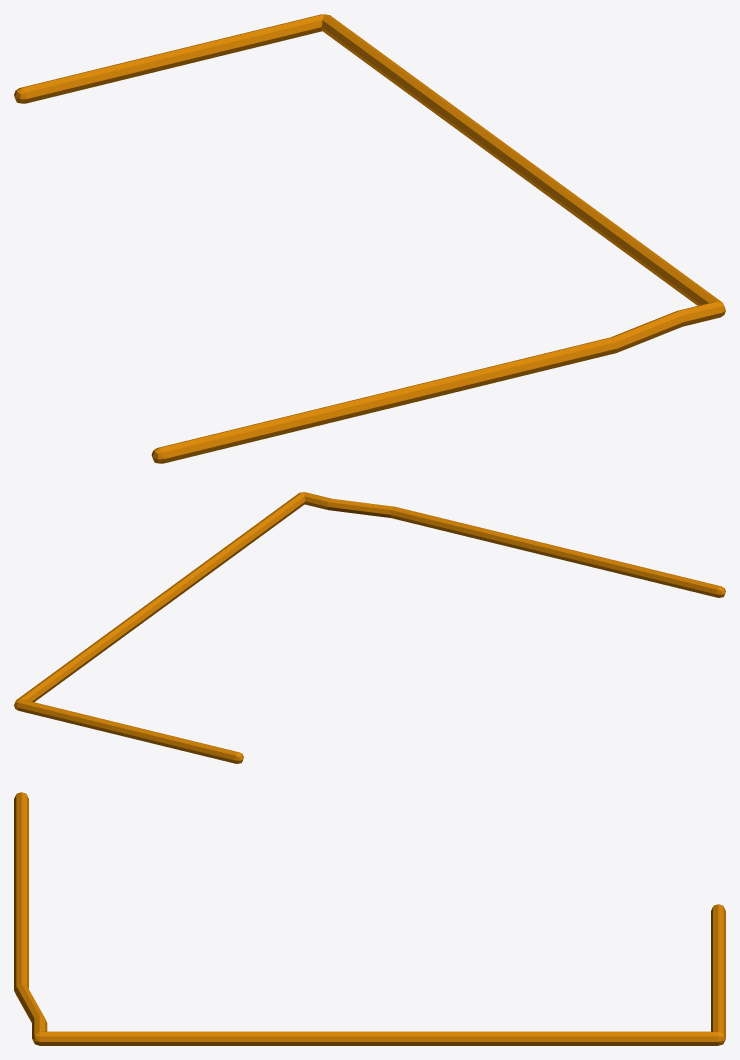
The picture shows the model from 3 angles, top to bottom: view 1: azimuth 30°, elevation 25°; view 2: azimuth 150°, elevation 25°; view 3: azimuth 270°, elevation 25°; orthographic projection. The views are drawn at different scales.
Bounding box in the file's own units: 771 × 20 × 944.
